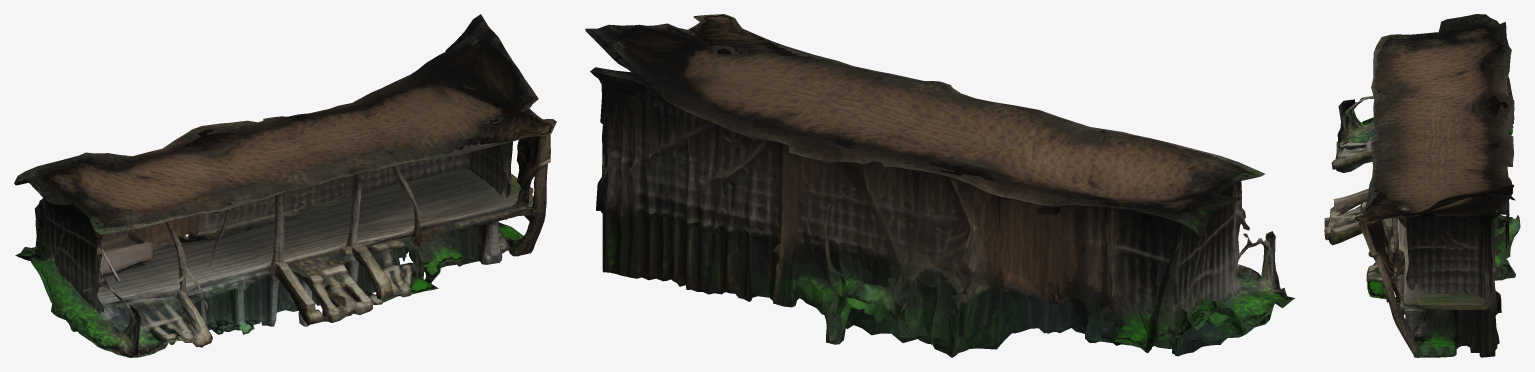
File: papua-pegunungan.glb
The picture shows the model from 3 angles, left to right: view 1: azimuth 30°, elevation 25°; view 2: azimuth 150°, elevation 25°; view 3: azimuth 270°, elevation 25°; orthographic projection. The views are drawn at different scales.
Parts seen in each view (by area): view 1: world; view 2: world; view 3: world.
Part boxes in pixels (x1,y1,x2,y2): world: (14,14,556,357); world: (585,14,1295,357); world: (1324,14,1520,357).
Bounding box in the file's own units: 0.6997 × 0.2853 × 0.283.
1 material, 1 textured.
